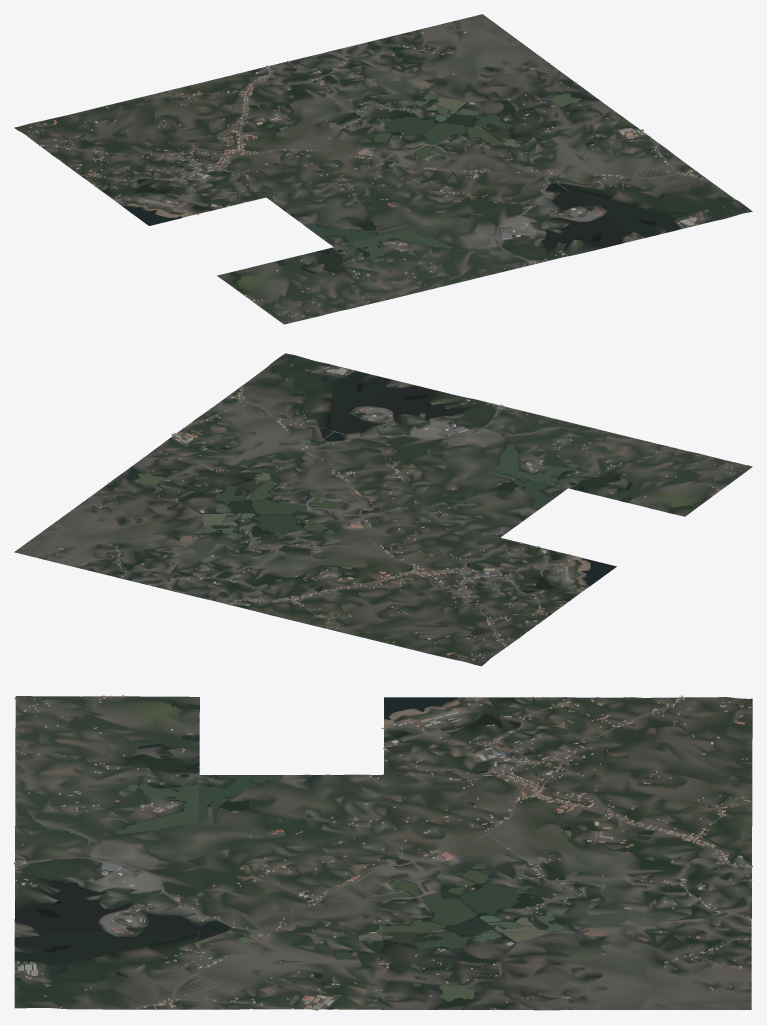
The picture shows the model from 3 angles, top to bottom: view 1: azimuth 30°, elevation 25°; view 2: azimuth 150°, elevation 25°; view 3: azimuth 270°, elevation 25°; orthographic projection. The views are drawn at different scales.
Visible parts, largest first — view 1: ground, water, buildings, roads; view 2: ground, water, buildings, roads; view 3: ground, water, buildings, roads.
Part boxes in pixels (x1,y1,x2,y2): ground: (14,14,752,324); water: (82,52,723,289); buildings: (28,27,734,323); roads: (40,40,708,263); ground: (14,353,752,666); water: (132,361,702,615); buildings: (55,364,749,661); roads: (109,386,548,645); ground: (14,696,752,1010); water: (15,697,751,1009); buildings: (14,695,752,1010); roads: (16,697,751,1009).
Bounding box in the file's own units: 5622 × 42.9 × 5622.
